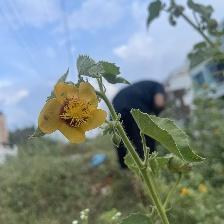indian mallow: (39, 81, 107, 146)
